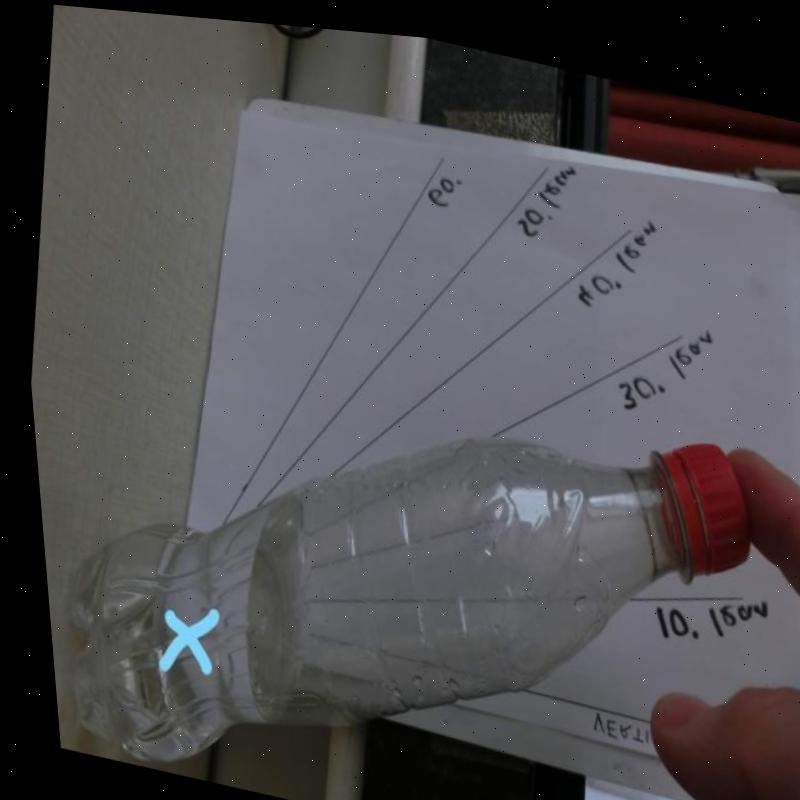botella: (19, 293, 773, 800)
